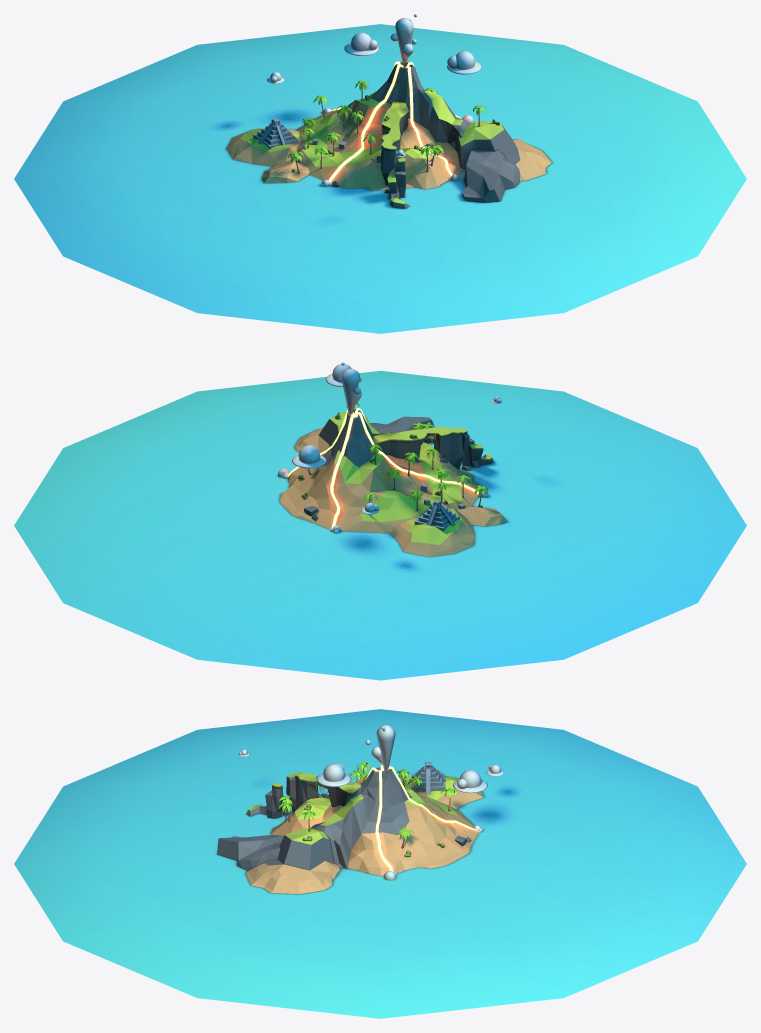
Rendered from volcano_island.glb.
3 renders of one model, top to bottom at view 1: azimuth 30°, elevation 25°; view 2: azimuth 150°, elevation 25°; view 3: azimuth 270°, elevation 25°, orthographic.
Visible parts, largest first — view 1: Ocean_Ocean_0, Volacano_Sand_Volacano_Sand_0, Volcano_Base_Volcano_Base_0, Volcano_Grass_Volcano_Grass_0, Clouds_Clouds_0, Palm tree_1_Palm tree_1_0, Volcanic_lava_Volcanic_lava_0, Island_Grass_Island_Grass_0, Pyramid_Pyramid_0; view 2: Ocean_Ocean_0, Volacano_Sand_Volacano_Sand_0, Volcano_Base_Volcano_Base_0, Volcano_Grass_Volcano_Grass_0, Clouds_Clouds_0, Volcanic_lava_Volcanic_lava_0, Palm tree_1_Palm tree_1_0, Island_Grass_Island_Grass_0, Pyramid_Pyramid_0; view 3: Ocean_Ocean_0, Volacano_Sand_Volacano_Sand_0, Volcano_Base_Volcano_Base_0, Clouds_Clouds_0, Volcano_Grass_Volcano_Grass_0, Palm tree_1_Palm tree_1_0, Volcanic_lava_Volcanic_lava_0, Pyramid_Pyramid_0, Island_Grass_Island_Grass_0.
Part boxes in pixels (bbox=[...]): Ocean_Ocean_0: bbox=[14, 24, 746, 333]; Volacano_Sand_Volacano_Sand_0: bbox=[226, 100, 551, 190]; Volcano_Base_Volcano_Base_0: bbox=[302, 62, 520, 208]; Volcano_Grass_Volcano_Grass_0: bbox=[240, 90, 503, 166]; Clouds_Clouds_0: bbox=[267, 14, 481, 157]; Palm tree_1_Palm tree_1_0: bbox=[288, 80, 485, 162]; Volcanic_lava_Volcanic_lava_0: bbox=[328, 61, 460, 182]; Island_Grass_Island_Grass_0: bbox=[381, 101, 408, 204]; Pyramid_Pyramid_0: bbox=[253, 118, 346, 163]; Ocean_Ocean_0: bbox=[14, 370, 746, 680]; Volacano_Sand_Volacano_Sand_0: bbox=[280, 427, 507, 556]; Volcano_Base_Volcano_Base_0: bbox=[304, 409, 493, 519]; Volcano_Grass_Volcano_Grass_0: bbox=[330, 411, 462, 544]; Clouds_Clouds_0: bbox=[292, 362, 502, 514]; Volcanic_lava_Volcanic_lava_0: bbox=[288, 408, 478, 528]; Palm tree_1_Palm tree_1_0: bbox=[346, 402, 488, 502]; Island_Grass_Island_Grass_0: bbox=[373, 427, 492, 459]; Pyramid_Pyramid_0: bbox=[414, 483, 464, 531]; Ocean_Ocean_0: bbox=[14, 709, 746, 1018]; Volacano_Sand_Volacano_Sand_0: bbox=[246, 772, 483, 894]; Volcano_Base_Volcano_Base_0: bbox=[217, 767, 470, 870]; Clouds_Clouds_0: bbox=[238, 724, 504, 793]; Volcano_Grass_Volcano_Grass_0: bbox=[285, 775, 458, 844]; Palm tree_1_Palm tree_1_0: bbox=[278, 761, 459, 840]; Volcanic_lava_Volcanic_lava_0: bbox=[366, 765, 479, 871]; Pyramid_Pyramid_0: bbox=[410, 762, 445, 794]; Island_Grass_Island_Grass_0: bbox=[247, 772, 361, 811].
Bounding box in the file's own units: 47509 × 11089 × 47509.
15 materials, 15 textured.
